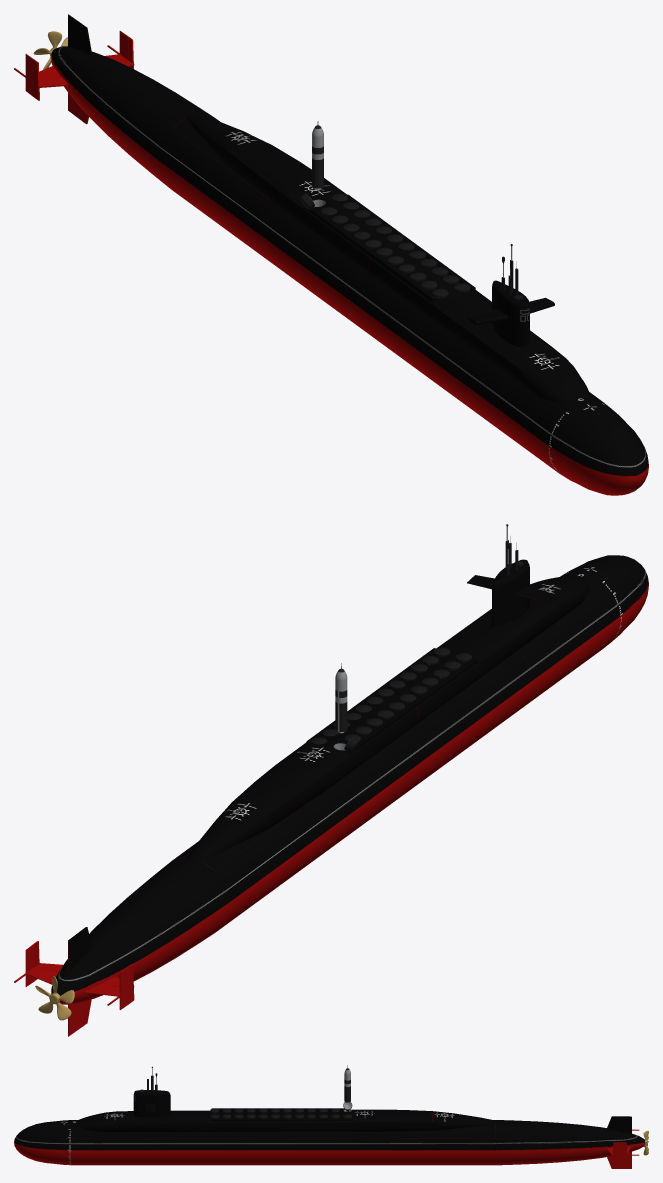
The model's file is SUBMARINE.glb.
3 views of the same model, one above another, from view 1: azimuth 30°, elevation 25°; view 2: azimuth 150°, elevation 25°; view 3: azimuth 270°, elevation 25° (orthographic). The views are drawn at different scales.
Parts seen in each view (by area): view 1: submarine, polySurface1, tower, pCube231, left_silos_covers, right_silos_covers, trident_missile; view 2: submarine, polySurface1, tower, pCube231, right_silos_covers, left_silos_covers, trident_missile, turbine; view 3: submarine, polySurface1, tower, pCube231, left_silos_covers, right_silos_covers, pCube240, trident_missile, pCube248.
Boxes of the visible parts, x1,y1,x2,y2 form: submarine: (51,46,648,495); polySurface1: (187,114,589,402); tower: (492,280,529,347); pCube231: (304,194,475,302); left_silos_covers: (332,193,470,292); right_silos_covers: (321,207,448,298); trident_missile: (312,125,323,188); submarine: (51,555,648,1004); polySurface1: (187,576,589,861); tower: (492,559,529,626); pCube231: (306,648,477,754); right_silos_covers: (344,653,471,741); left_silos_covers: (311,647,450,744); trident_missile: (335,669,347,731); turbine: (35,976,74,1020); submarine: (14,1120,644,1165); polySurface1: (76,1109,498,1131); tower: (133,1090,170,1117); pCube231: (211,1108,350,1121); left_silos_covers: (210,1114,352,1118); right_silos_covers: (210,1108,339,1113); pCube240: (616,1116,631,1133); trident_missile: (344,1068,350,1102); pCube248: (617,1142,626,1162).
Size of the model in its own units: 0.013 by 0.0244 by 0.1372.
Materials: 2 (2 with a texture image).
